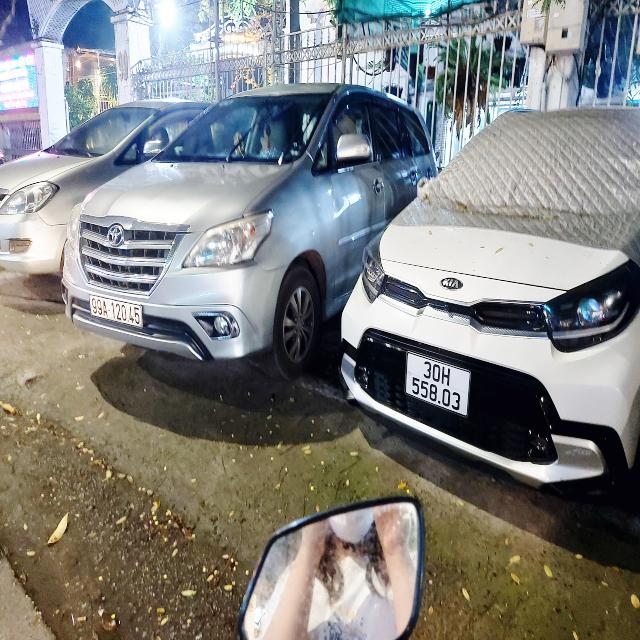license_plate: (402, 348, 475, 424), (88, 292, 145, 333)
